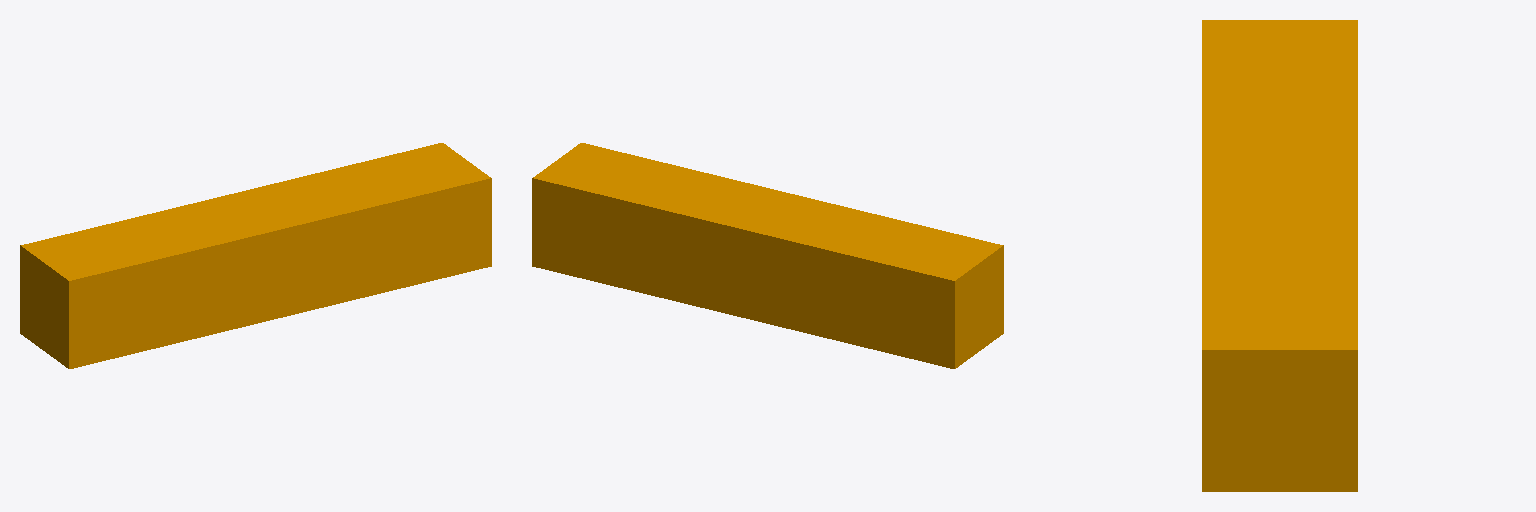
URDF robot description (3DRectangle):
<?xml version="1.0"?>
<robot name="3DRectangle">
 <link name="link1">
  <inertial>
    <mass value="1"/>
    <inertia ixx="0.190833333333" ixy="0" ixz="0" iyy="0.190833333333" iyz="0" izz="0.00666666666667"/>
  </inertial>
  <visual>
    <origin rpy="0 0 0" xyz="0 0 0"/>
    <geometry>
      <box size="2.5 0.5 0.5"/>
    </geometry>
  </visual>
  <collision>
    <origin rpy="0 0 0" xyz="0 0 0"/>
    <geometry>
      <box size="2.5 0.5 0.5"/>
    </geometry>
  </collision>
 </link>

  <klampt package_root="../../.." default_acc_max="4" >
  </klampt>
</robot>

--- Facts derived from the render (not from the file) ---
3 views of the same robot in one strip: view 1: azimuth 30°, elevation 25°; view 2: azimuth 150°, elevation 25°; view 3: azimuth 270°, elevation 25° (orthographic).
Robot: 3DRectangle — 1 links, 0 joints (none); root link link1; default pose: all joints at 0.
Links seen in each view (by area): view 1: link1; view 2: link1; view 3: link1.
Boxes of the visible links, x1,y1,x2,y2 form: link1: [20, 143, 491, 368]; link1: [532, 143, 1003, 368]; link1: [1202, 20, 1357, 491].
Size in the robot's own frame: 2.5 by 0.5 by 0.5 metres.
Geometry: primitives only (box / cylinder / sphere), no mesh files.